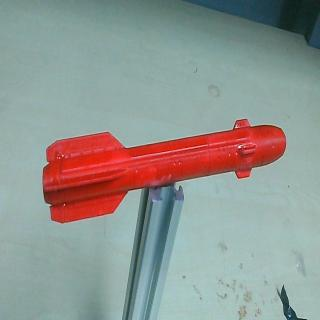Rocket: (41, 117, 288, 224)
